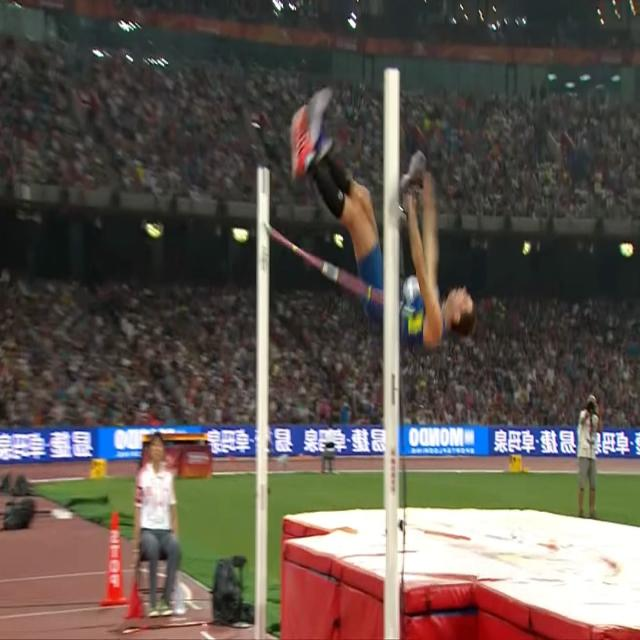land: (292, 90, 476, 346)
